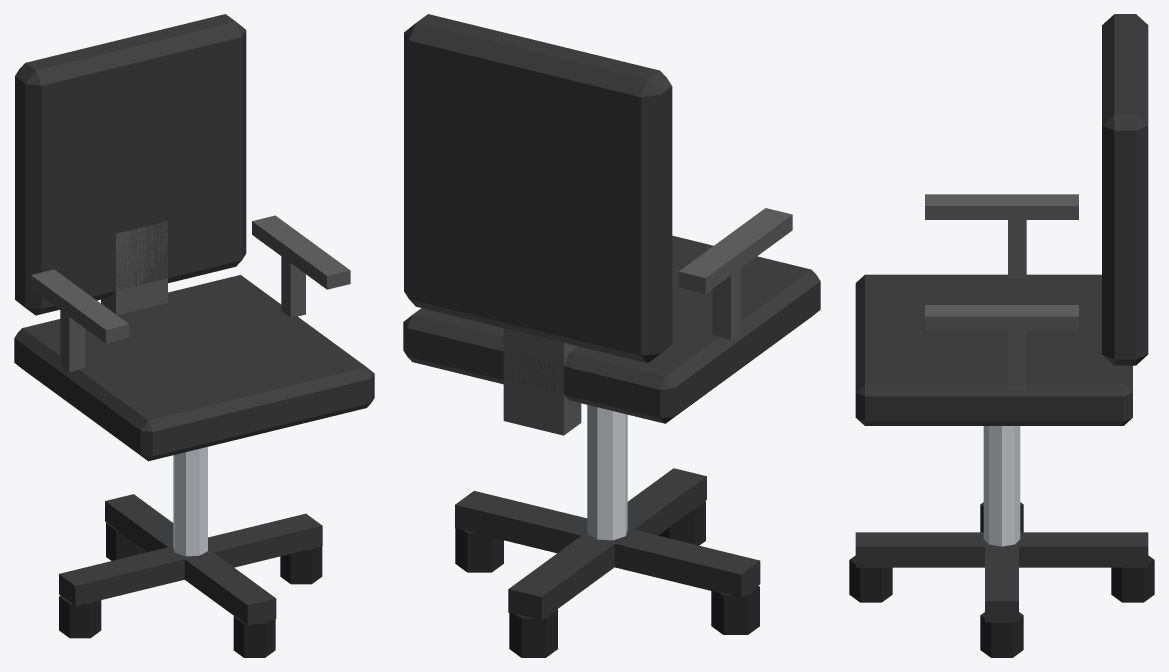
File: FUR_OfficeChair.fbx
The picture shows the model from 3 angles, left to right: view 1: azimuth 30°, elevation 25°; view 2: azimuth 150°, elevation 25°; view 3: azimuth 270°, elevation 25°; orthographic projection. The views are drawn at different scales.
Parts seen in each view (by area): view 1: FUR_OfficeChair; view 2: FUR_OfficeChair; view 3: FUR_OfficeChair.
Boxes of the visible parts, x1,y1,x2,y2 form: FUR_OfficeChair: (14,14,374,657); FUR_OfficeChair: (403,14,820,657); FUR_OfficeChair: (849,14,1154,657).
Size of the model in its own units: 1.94 by 3.8 by 1.98.
